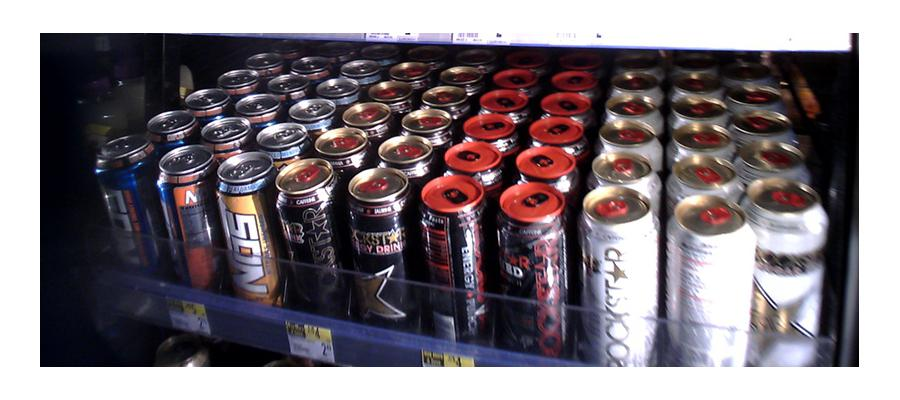bottle: (577, 173, 662, 365), (672, 192, 753, 366), (750, 180, 824, 365), (500, 182, 567, 352), (421, 176, 488, 340), (347, 171, 409, 320), (96, 138, 157, 286), (279, 164, 340, 308), (221, 154, 277, 302), (160, 152, 217, 293)
